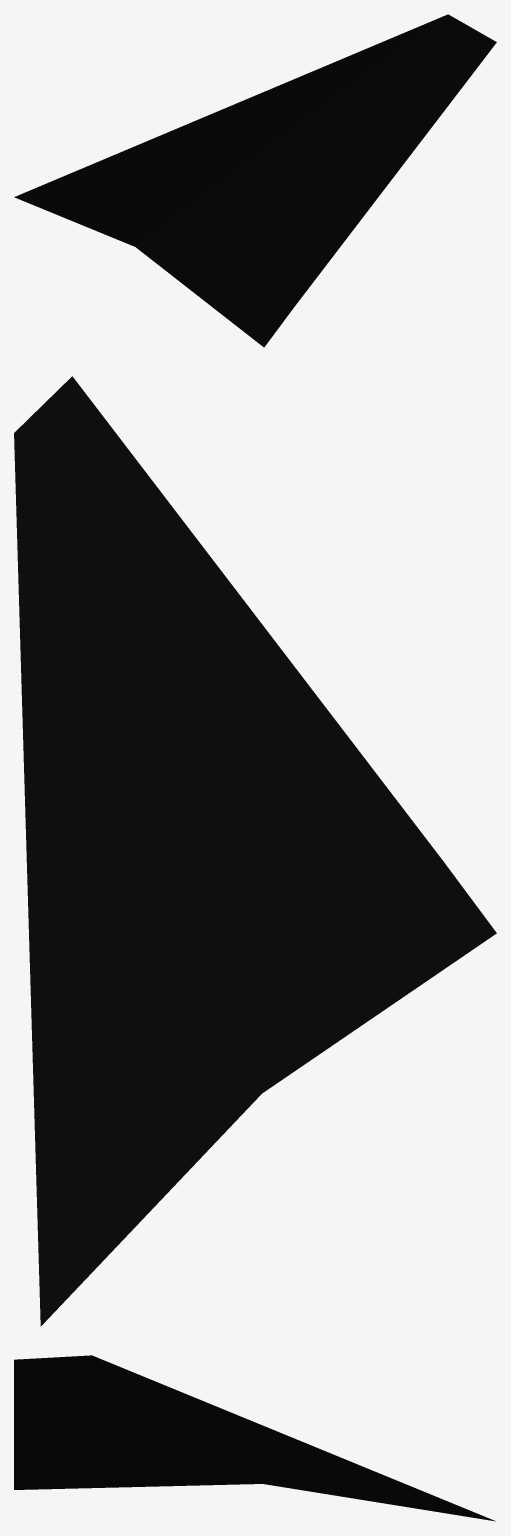
3 renders of one model, top to bottom at view 1: azimuth 30°, elevation 25°; view 2: azimuth 150°, elevation 25°; view 3: azimuth 270°, elevation 25°, orthographic. The views are drawn at different scales.
Size of the model in its own units: 2.21 by 2.55 by 4.11.
Materials: 1 (1 with a texture image).
